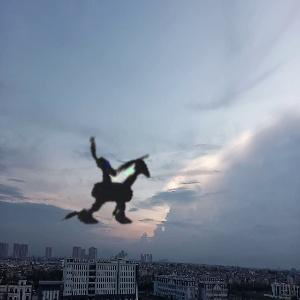drone: (20, 100, 215, 295)
